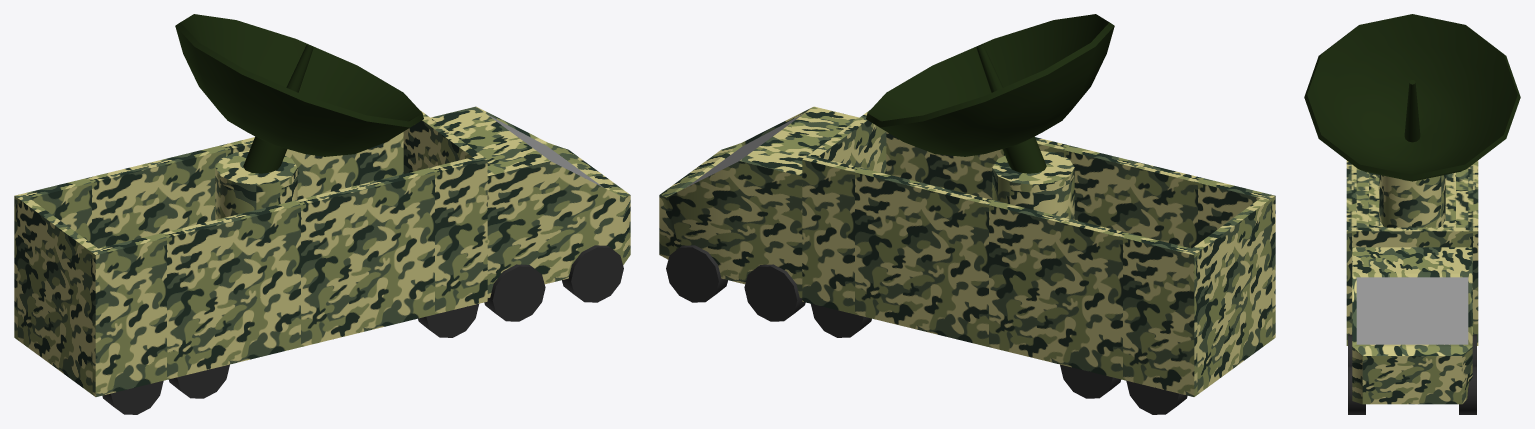
Rendered from Truck.FBX.
The picture shows the model from 3 angles, left to right: view 1: azimuth 30°, elevation 25°; view 2: azimuth 150°, elevation 25°; view 3: azimuth 270°, elevation 25°; orthographic projection. The views are drawn at different scales.
Parts seen in each view (by area): view 1: truck, Tube001, control; view 2: truck, Tube001, control; view 3: truck, Tube001, control.
Boxes of the visible parts, x1=… form: truck: x1=14, y1=106, x2=630, y2=414; Tube001: x1=175, y1=14, x2=423, y2=173; control: x1=215, y1=151, x2=297, y2=219; truck: x1=659, y1=106, x2=1275, y2=414; Tube001: x1=866, y1=14, x2=1114, y2=173; control: x1=992, y1=151, x2=1074, y2=219; truck: x1=1346, y1=160, x2=1478, y2=414; Tube001: x1=1304, y1=14, x2=1520, y2=181; control: x1=1379, y1=175, x2=1445, y2=227.
Size of the model in its own units: 24.55 by 13.7 by 10.45.
4 materials, 1 textured.
